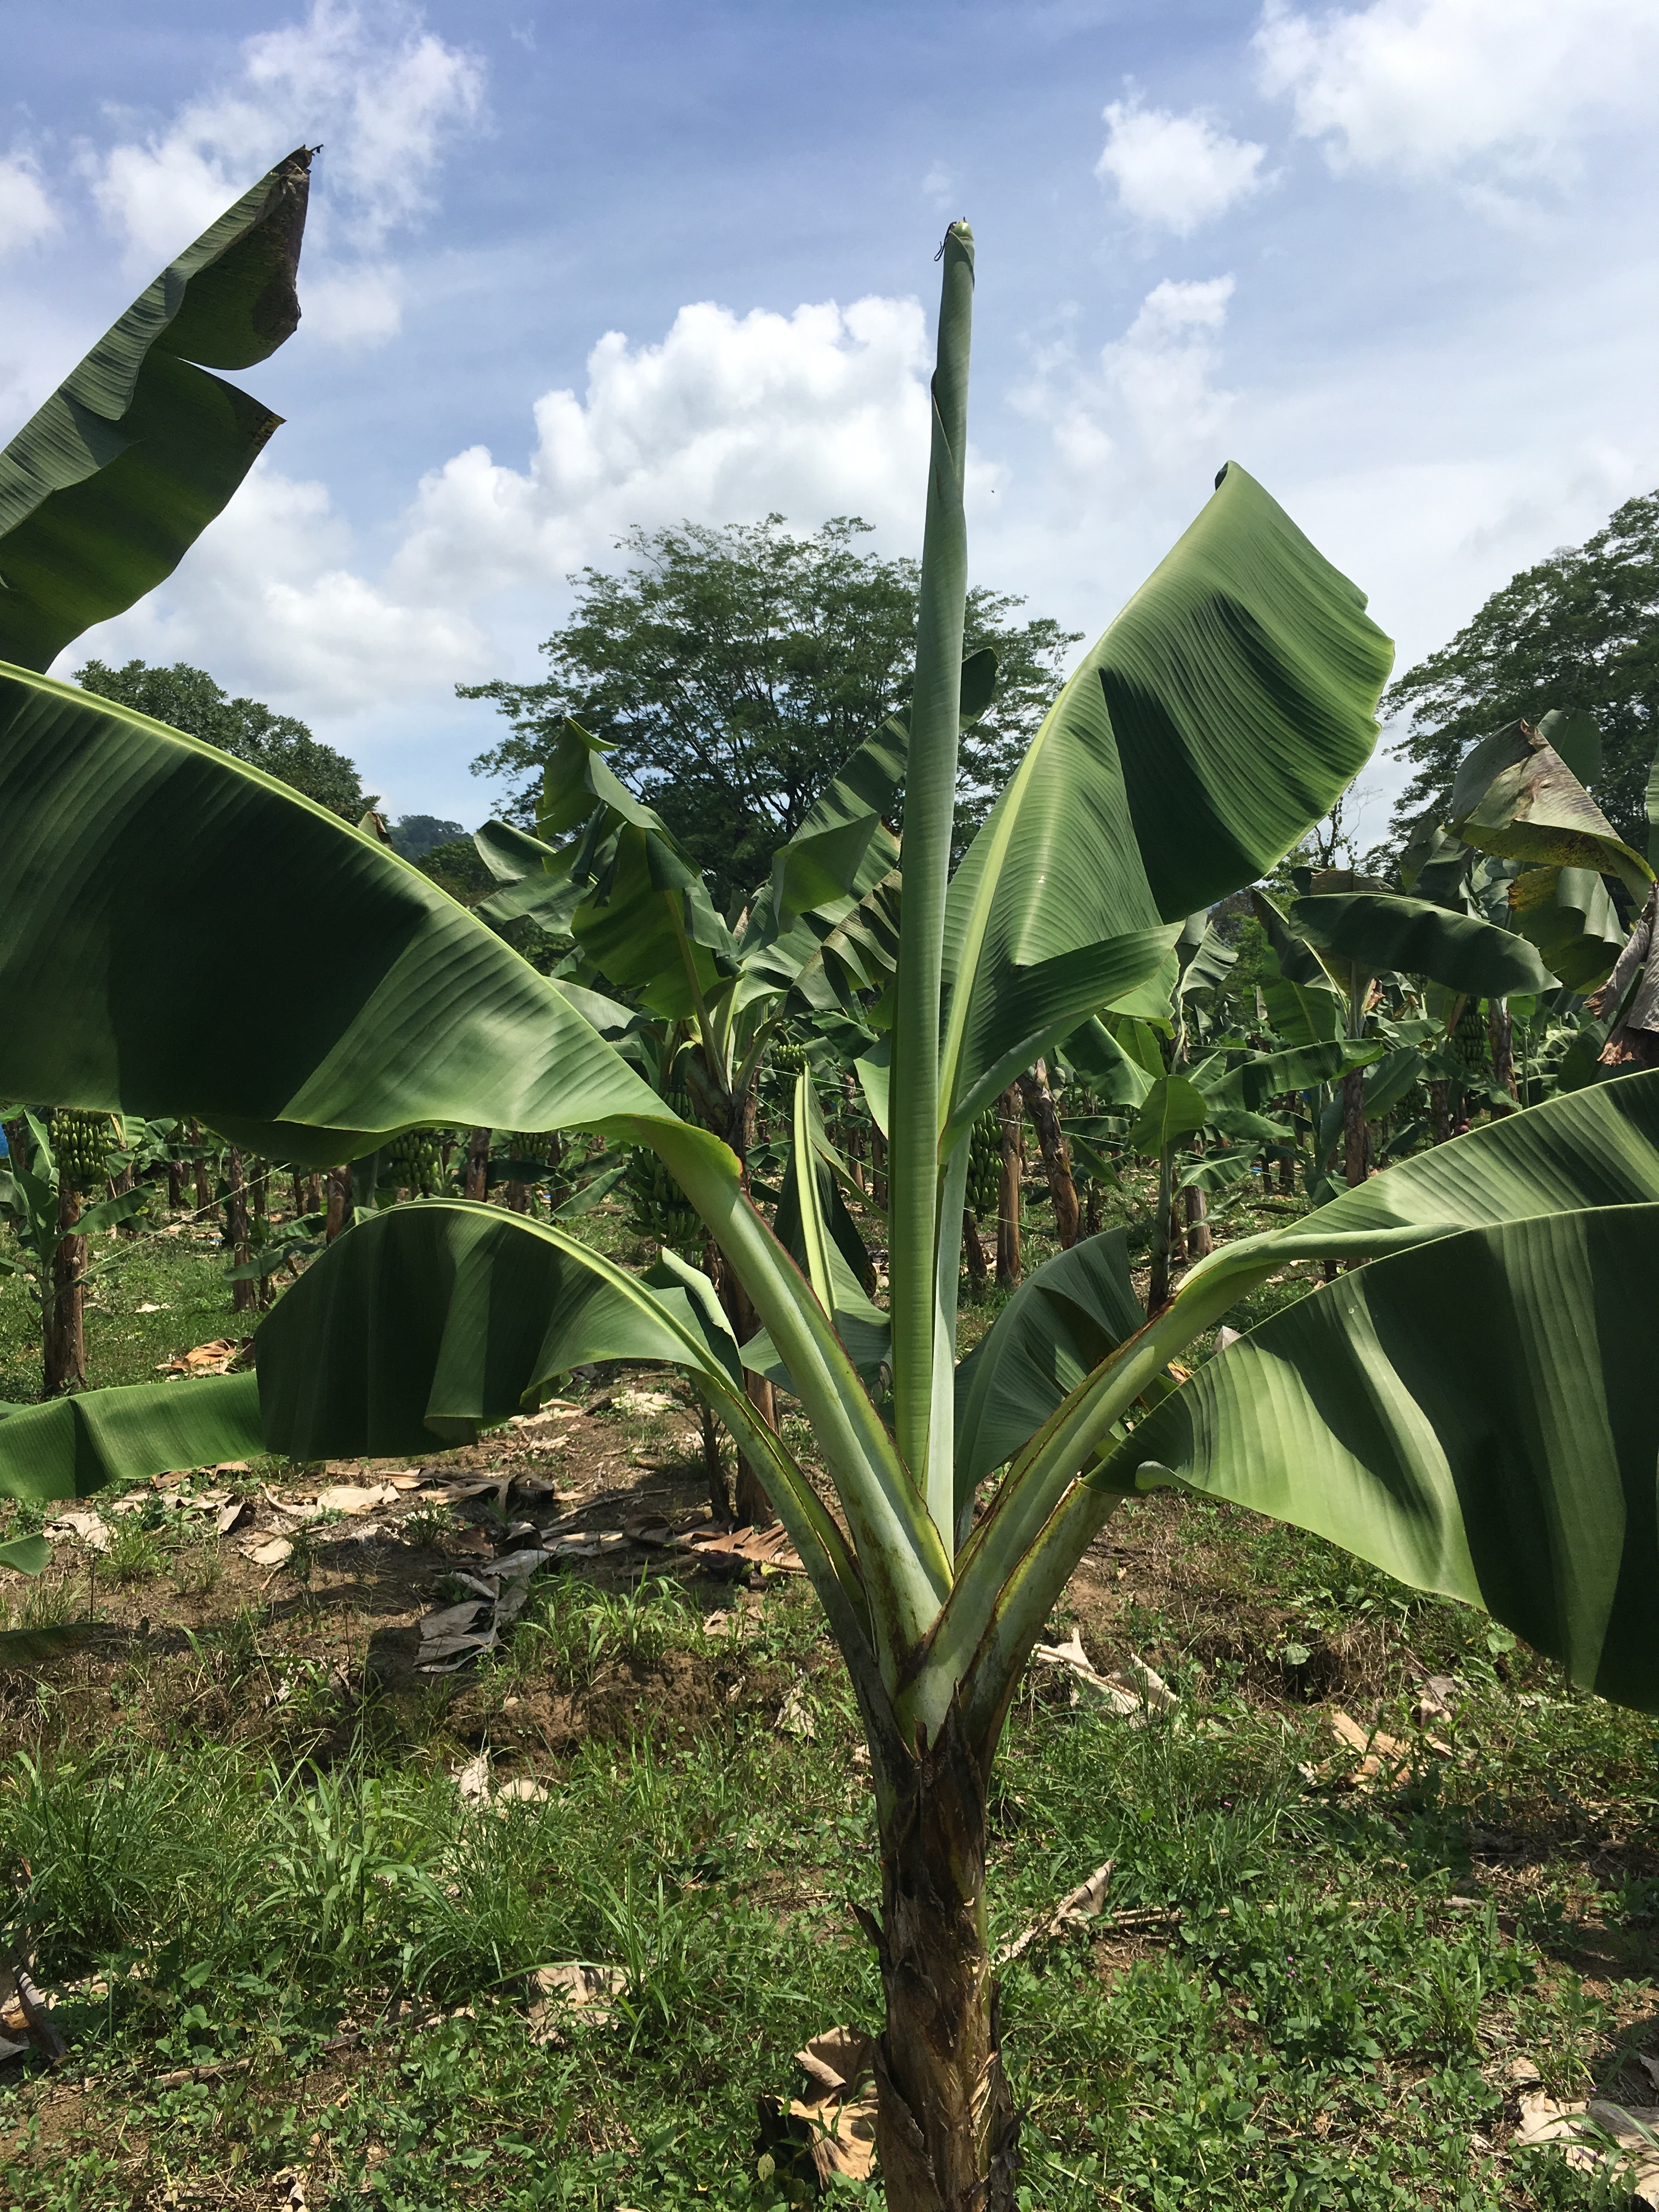candleleafs: (864, 221, 981, 1423)
